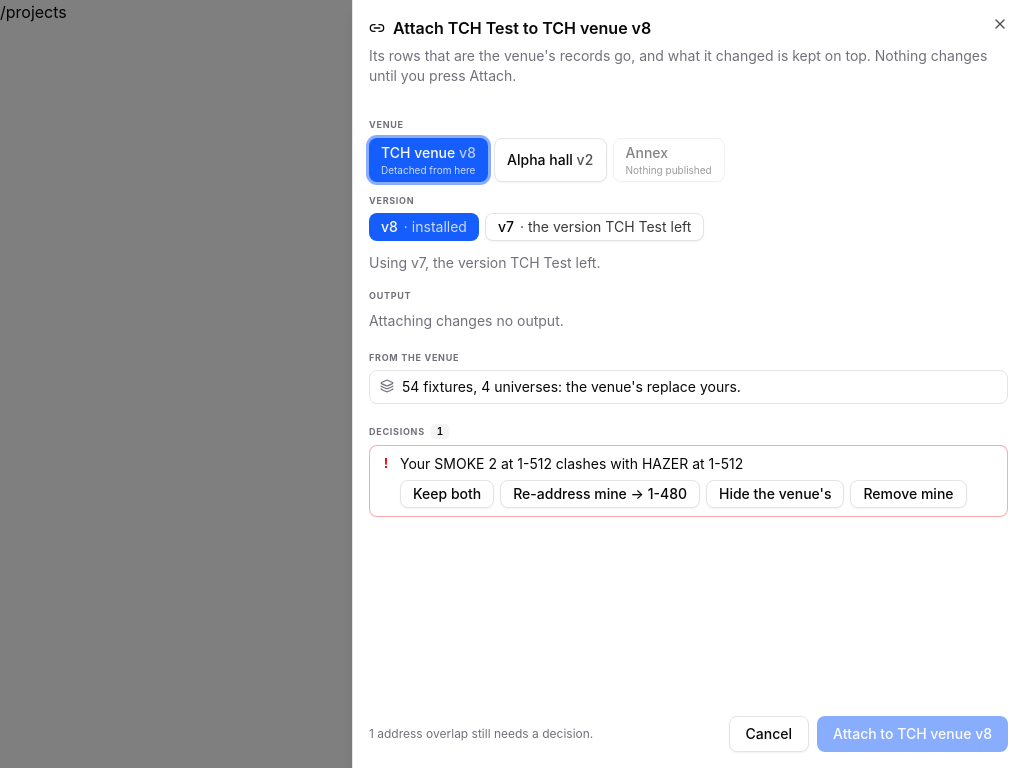
Attach is held back › while an overlap is unanswered
Expected: the button "Attach to TCH venue v8" is disabled, [817,716,1008,752]
Expected: the text "1 address overlap still needs a decision." is shown, [369,726,593,742]
Click the radio button labelled "Keep both". click: (447, 494)
box: [400,480,494,508]
Wait 300 ms
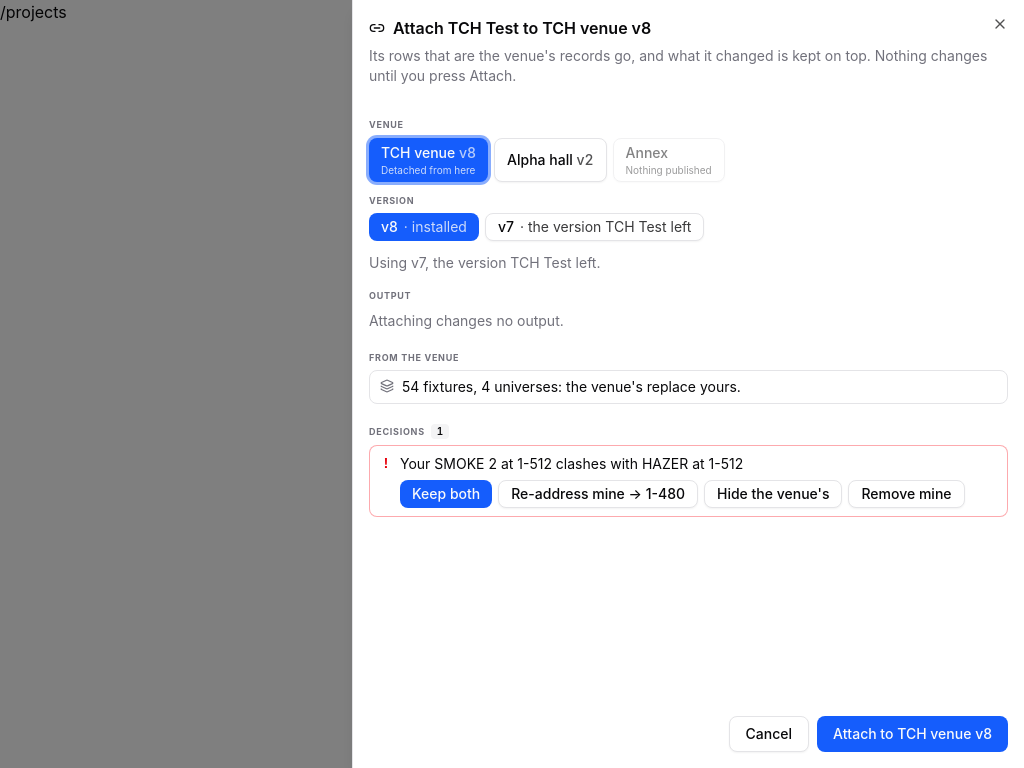
Now the button "Attach to TCH venue v8" is enabled, box [817,716,1008,752]
